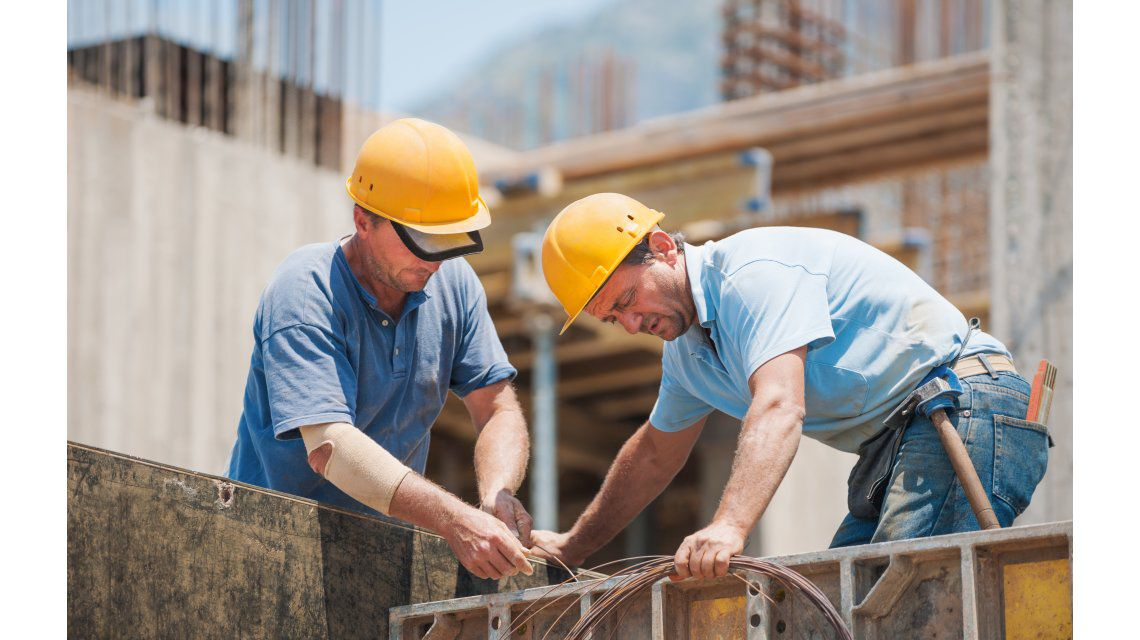casco: (538, 189, 671, 342), (342, 113, 495, 239)
